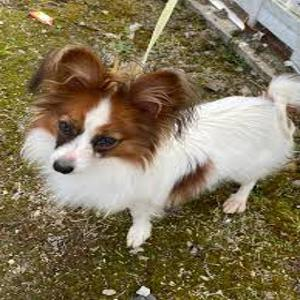yell: (23, 45, 300, 248)
